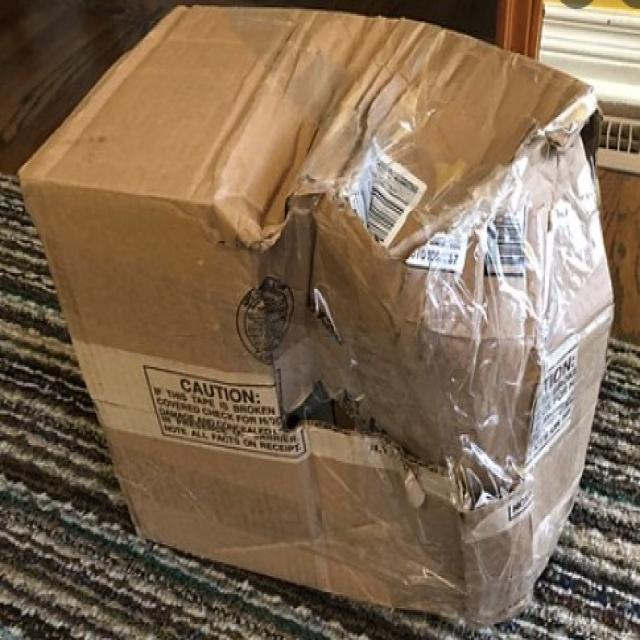hole: (271, 377, 415, 477)
